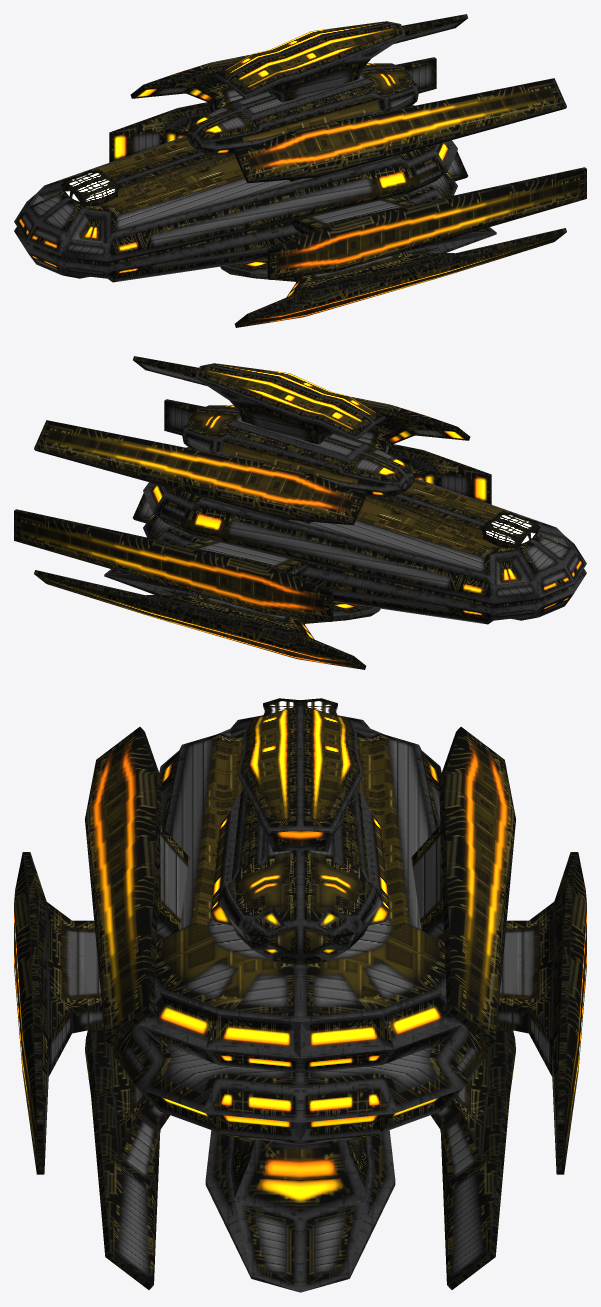
File: etheriumBattleship.FBX
3 views of the same model, one above another, from view 1: azimuth 30°, elevation 25°; view 2: azimuth 150°, elevation 25°; view 3: azimuth 270°, elevation 25° (orthographic). The views are drawn at different scales.
Visible parts, largest first — view 1: Box001; view 2: Box001; view 3: Box001.
Part boxes in pixels (x1,y1,x2,y2): Box001: (14, 14, 586, 327); Box001: (14, 356, 586, 669); Box001: (14, 698, 586, 1292).
Size of the model in its own units: 48.97 by 23.33 by 29.03.
1 material, 1 textured.
